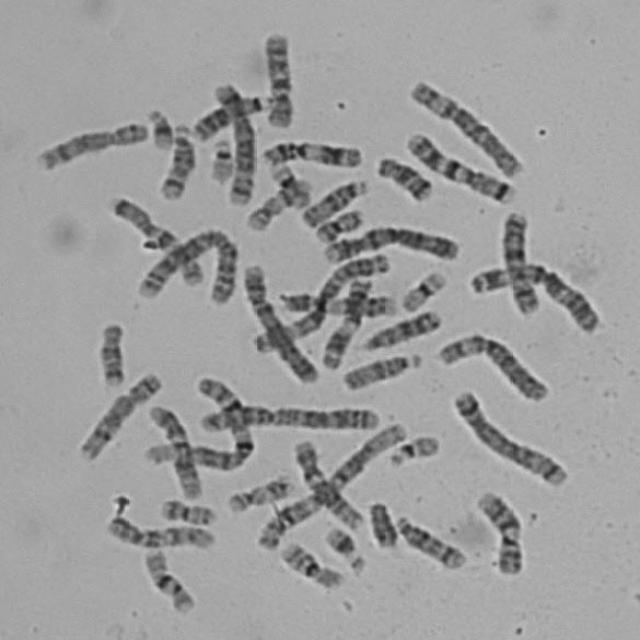A1: (252, 415, 411, 553), (139, 369, 257, 474)
A2: (132, 223, 241, 306), (194, 400, 383, 435)
A3: (247, 245, 396, 356), (465, 258, 604, 336)
B4: (236, 258, 322, 386), (317, 221, 463, 265)
B5: (447, 384, 570, 489), (207, 79, 259, 208)
C10: (100, 511, 218, 553), (259, 27, 298, 130)
C11: (315, 272, 374, 372), (256, 135, 365, 169)
C12: (288, 435, 367, 533), (143, 401, 205, 501)
C6: (405, 73, 526, 180), (433, 326, 552, 404)
C7: (104, 191, 208, 288), (401, 126, 518, 206)
C8: (73, 366, 165, 464), (30, 115, 151, 173)
C9: (472, 486, 528, 578), (276, 287, 402, 320)
D13: (189, 91, 276, 142), (358, 304, 444, 353)
D14: (390, 510, 470, 572), (154, 119, 197, 202)
D15: (296, 173, 371, 230), (336, 347, 424, 392)
E16: (138, 544, 198, 616), (274, 536, 344, 592)
E17: (240, 173, 310, 234), (222, 472, 298, 515)
E18: (372, 150, 435, 204), (93, 316, 129, 388)
F19: (264, 156, 313, 210), (396, 266, 450, 313)
F20: (310, 203, 368, 244), (155, 494, 220, 526)
G21: (320, 520, 368, 574), (142, 104, 176, 152)
G22: (383, 429, 443, 470), (205, 132, 238, 183)
X: (496, 205, 542, 316)
Y: (364, 496, 401, 550)
